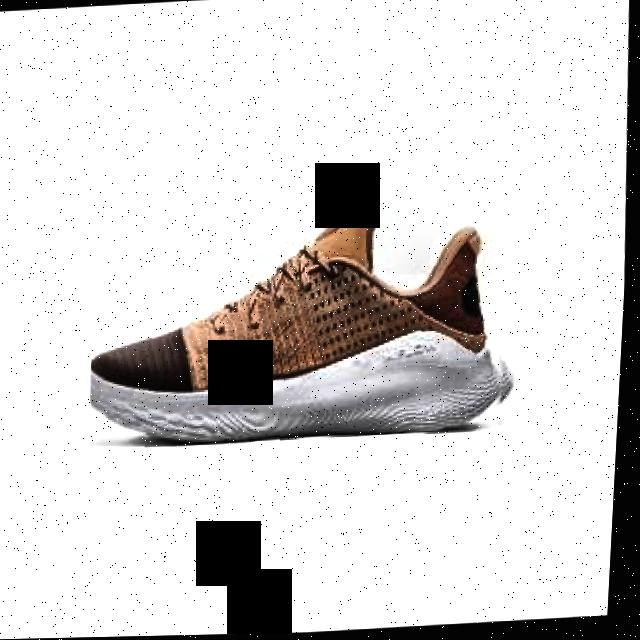shoe: (85, 173, 527, 452)
